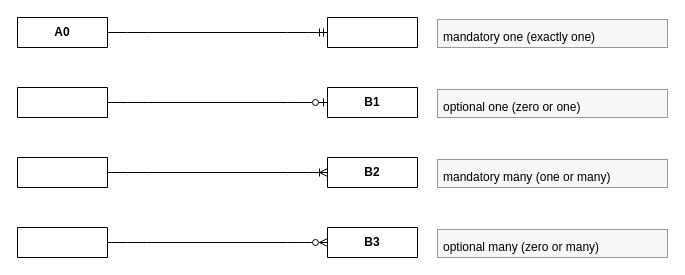
The diagram is 685 pixels wide and 275 high, and some of its shapes have lost their labels. Each missing label, with the box of its shape:
A1: (16, 86, 108, 118)
A2: (16, 156, 108, 188)
A3: (16, 226, 108, 258)
B0: (326, 16, 418, 48)
